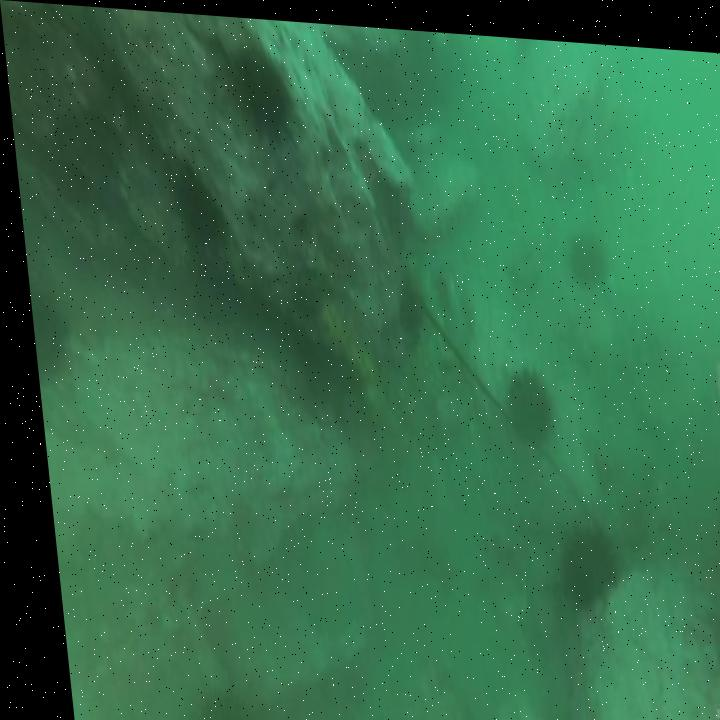echinus: (539, 507, 612, 607), (225, 41, 294, 143), (171, 153, 226, 254), (491, 354, 551, 441), (24, 288, 69, 390), (560, 215, 606, 283), (385, 263, 422, 343)
